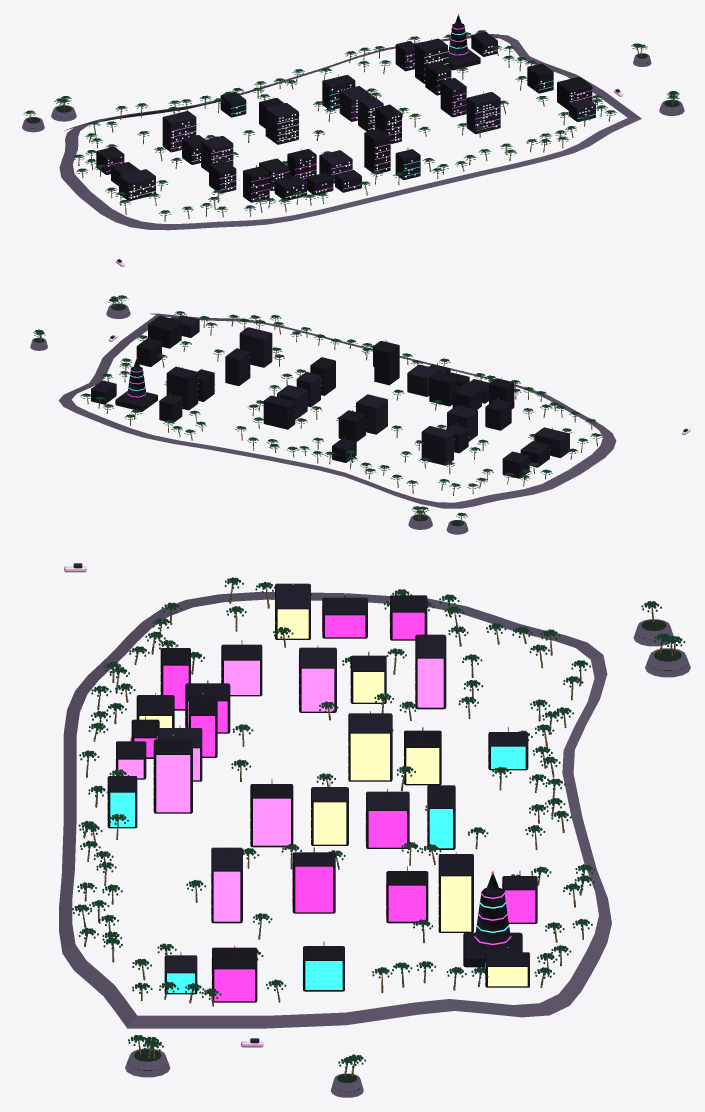
File: by_neonnat.glb
3 renders of one model, top to bottom at view 1: azimuth 30°, elevation 25°; view 2: azimuth 150°, elevation 25°; view 3: azimuth 270°, elevation 25°, orthographic. The views are drawn at different scales.
Visible parts, largest first — view 1: Byen_net, Stranden_net, Palmer_net, Holme_net, Neontårnet_net, Holmtraer_net; view 2: Byen_net, Stranden_net, Palmer_net, Holme_net, Neontårnet_net, Holmtraer_net; view 3: Byen_net, Stranden_net, Palmer_net, Holme_net, Neontårnet_net, Holmtraer_net.
Boxes of the visible parts, bbox=[...] form: Byen_net: bbox=[96, 31, 596, 202]; Stranden_net: bbox=[59, 34, 641, 230]; Palmer_net: bbox=[72, 30, 616, 221]; Holme_net: bbox=[22, 53, 684, 132]; Neontårnet_net: bbox=[448, 14, 480, 70]; Holmtraer_net: bbox=[23, 43, 679, 121]; Byen_net: bbox=[91, 314, 570, 478]; Stranden_net: bbox=[58, 313, 616, 508]; Palmer_net: bbox=[80, 311, 601, 495]; Holme_net: bbox=[30, 303, 468, 534]; Neontårnet_net: bbox=[115, 357, 157, 411]; Holmtraer_net: bbox=[33, 295, 467, 523]; Byen_net: bbox=[107, 583, 537, 1002]; Stranden_net: bbox=[59, 591, 611, 1028]; Palmer_net: bbox=[72, 577, 595, 1006]; Holme_net: bbox=[125, 619, 690, 1097]; Neontårnet_net: bbox=[463, 871, 522, 967]; Holmtraer_net: bbox=[128, 601, 685, 1076].
Bounding box in the file's own units: 100 × 8.57 × 53.61.
